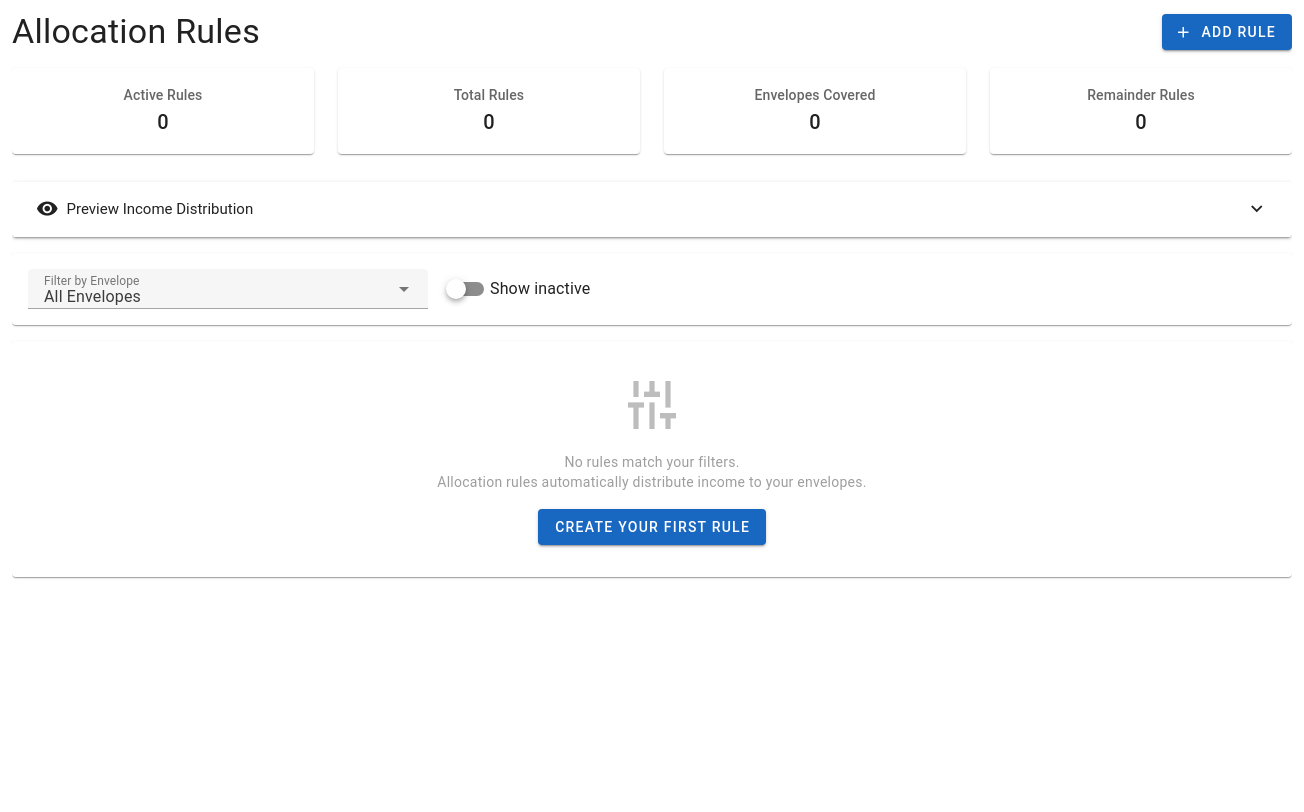
Test case: AllocationRulesView › shows empty state when no rules exist
Step 1. Click the checkbox labelled "Show inactive" → {"x": 540, "y": 288}, box [490, 279, 590, 298]
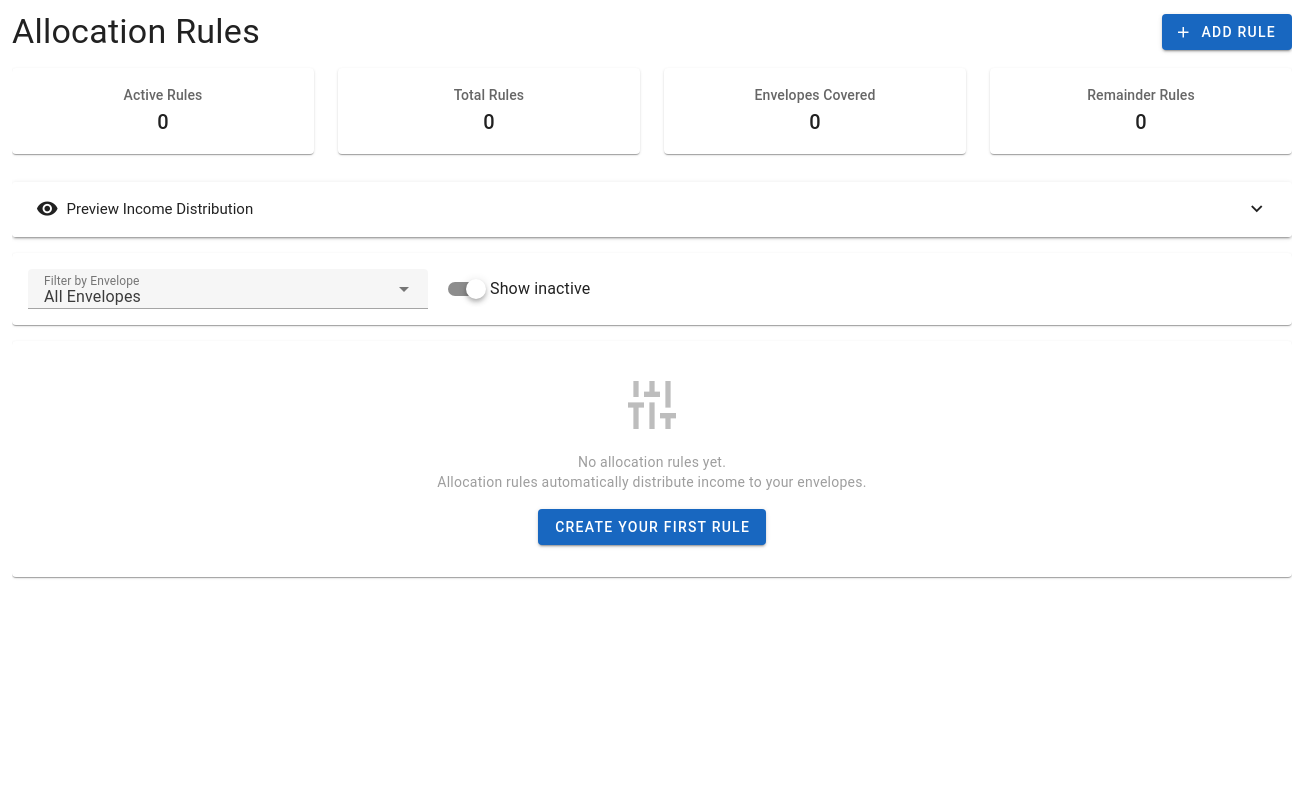
Expected: the text "Create Your First Rule" is shown, [554, 519, 750, 535]
Result: the text "No allocation rules yet." is shown at [578, 454, 726, 470]
